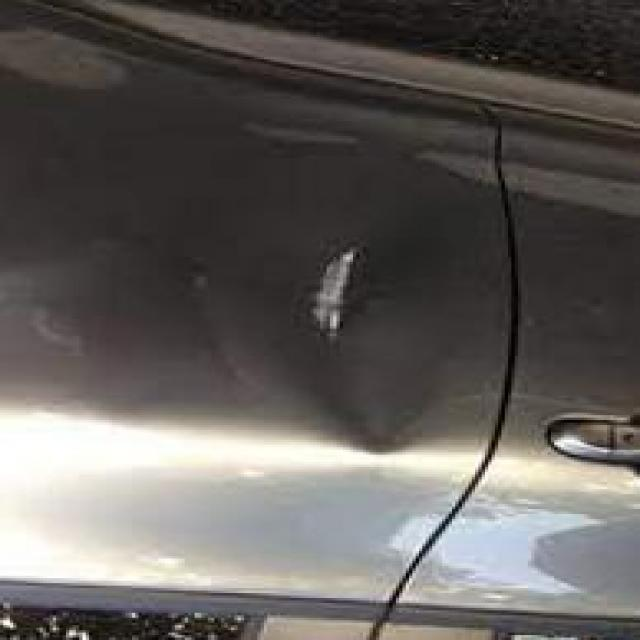dent: (251, 224, 485, 471)
